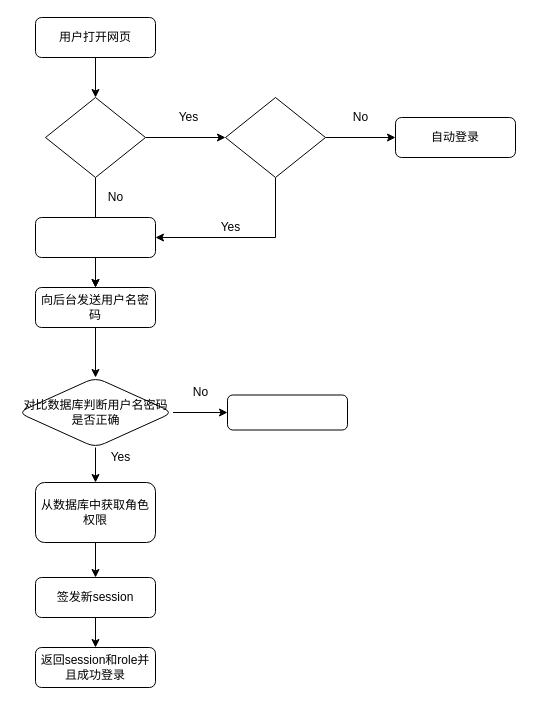
The diagram is 533 pixels wide and 705 high, and some of its shapes have lost their labels. The box of each missing label's shape, as (x1, y1, x2, y2) in pixels:
是否有session: (44, 96, 146, 178)
是否过期: (224, 96, 326, 178)
用户登录: (34, 216, 156, 258)
返回错误信息,登录失败: (226, 394, 348, 430)
